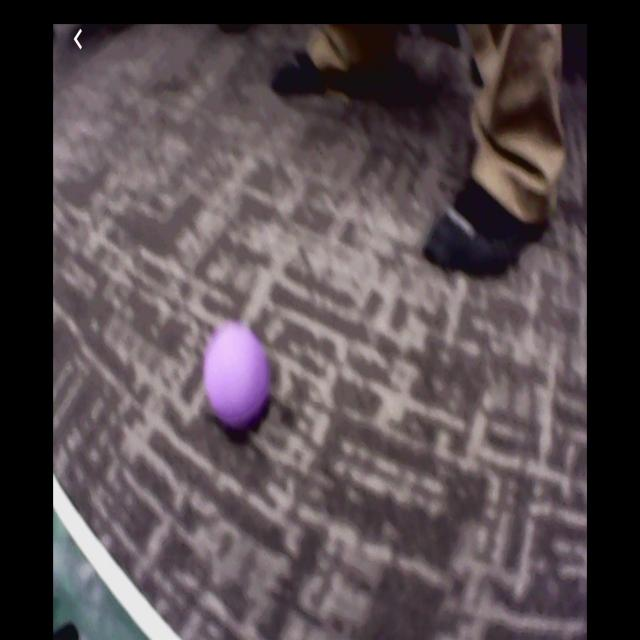ball: (204, 324, 266, 424)
